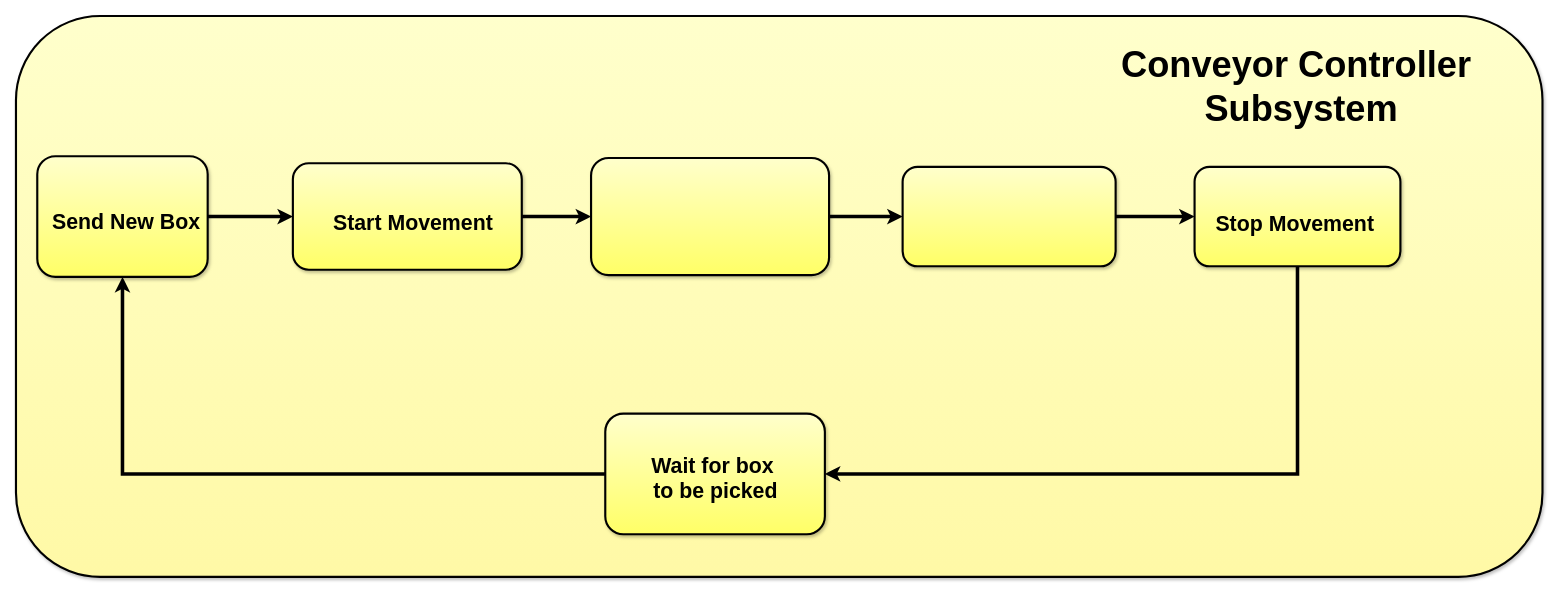
Some shapes in this 1560 by 595 pixel diagram are drawn without their labels. Here are the shapes that lost their labels. From the top down, the centre of each, then its label:
At pixel 710 217: "Sensor Detection".
At pixel 1009 217: "Achieve location to pick box".
